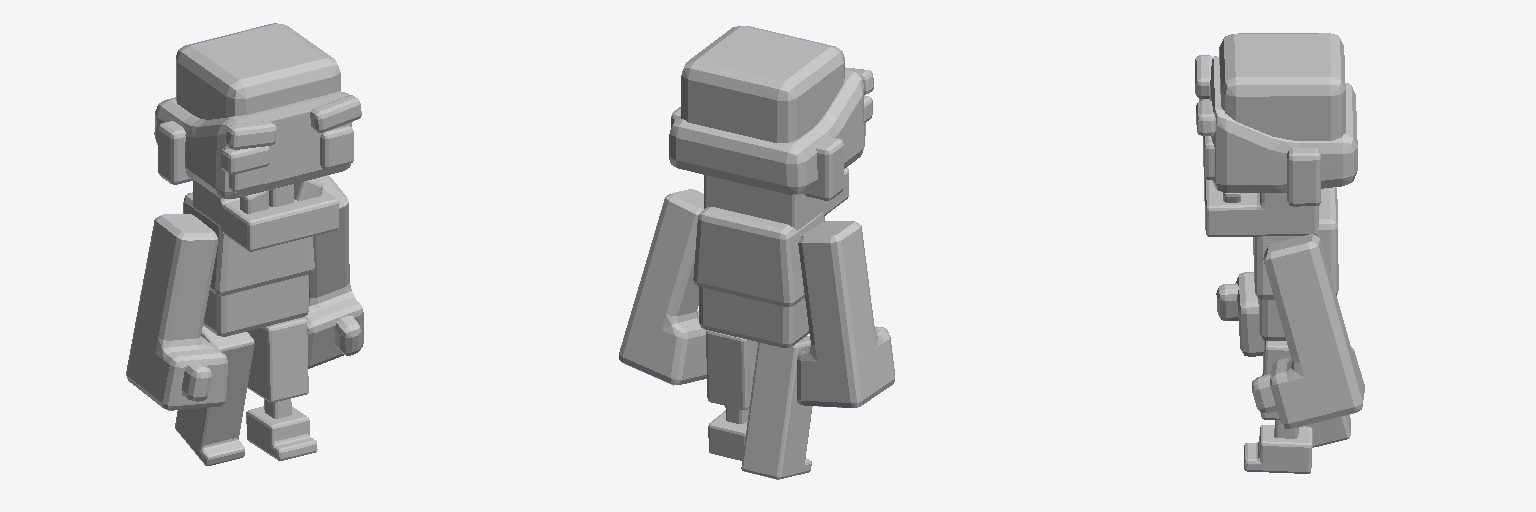
Rendered from Zombie.obj.
3 renders of one model, left to right at view 1: azimuth 30°, elevation 25°; view 2: azimuth 150°, elevation 25°; view 3: azimuth 270°, elevation 25°, orthographic.
Visible parts, largest first — view 1: Cube.000; view 2: Cube.000; view 3: Cube.000.
Part boxes in pixels (bbox=[...]): Cube.000: bbox=[126, 23, 363, 465]; Cube.000: bbox=[619, 26, 894, 479]; Cube.000: bbox=[1195, 33, 1364, 473].
Bounding box in the file's own units: 1.6 × 2.78 × 1.06.